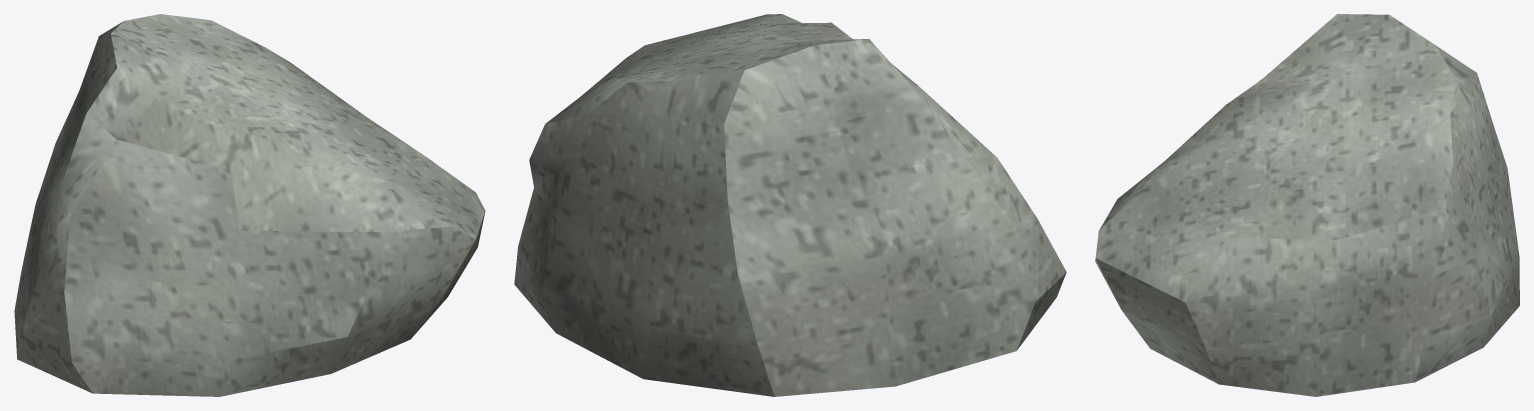
File: rock-a.glb
3 renders of one model, left to right at view 1: azimuth 30°, elevation 25°; view 2: azimuth 150°, elevation 25°; view 3: azimuth 270°, elevation 25°, orthographic. The views are drawn at different scales.
Visible parts, largest first — view 1: gather-rock-a; view 2: gather-rock-a; view 3: gather-rock-a.
Part boxes in pixels (x1,y1,x2,y2): gather-rock-a: [14, 14, 485, 396]; gather-rock-a: [514, 14, 1066, 396]; gather-rock-a: [1095, 14, 1519, 396].
Size of the model in its own units: 0.958 by 0.609 by 0.88.
Materials: 1 (1 with a texture image).
